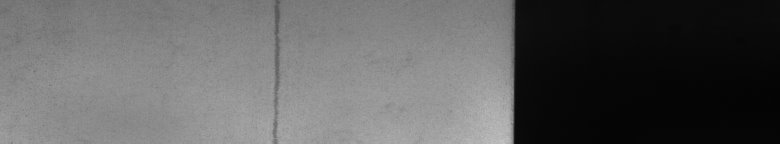hd: (268, 4, 284, 136)
